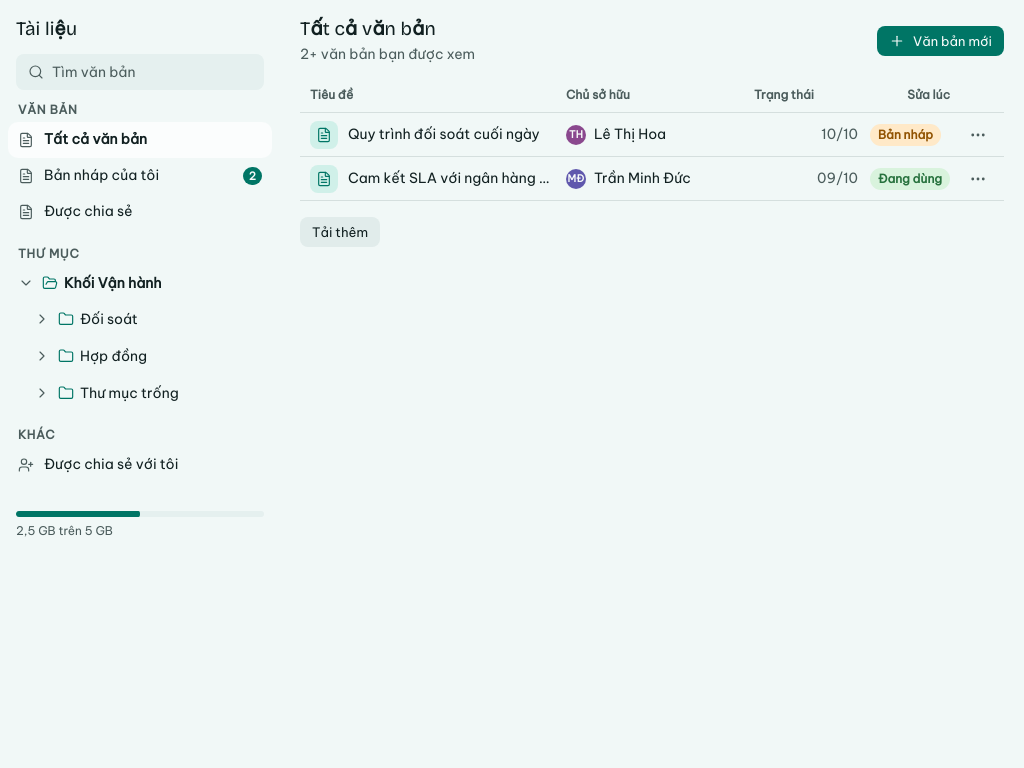
Test: TextsScreen: paging › asks for the next page and adds it to the list, never replacing it
Expected: the link "Quy trình đối soát cuối ngày" is shown, [348, 124, 540, 145]
Expected: the text "2+ văn bản bạn được xem" is shown, [300, 44, 475, 65]
Click the button "Tải thêm": (340,232) [300, 217, 380, 247]
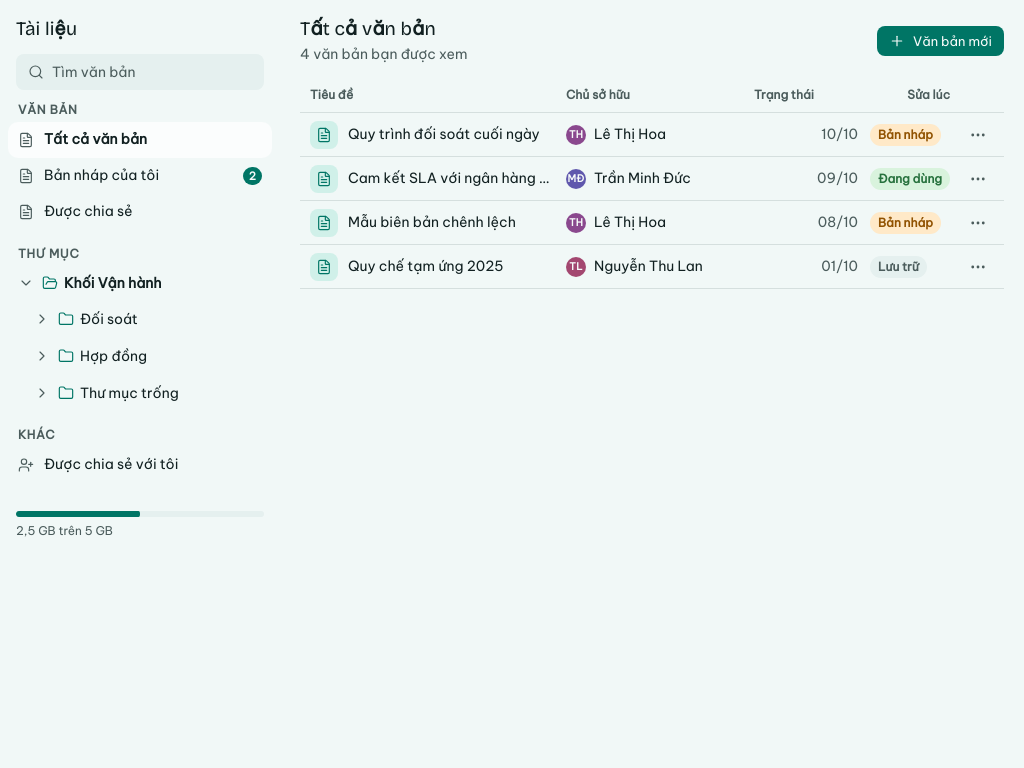
Now the button "Tải thêm" is gone
Now the text "4 văn bản bạn được xem" is shown, box [300, 44, 467, 65]
